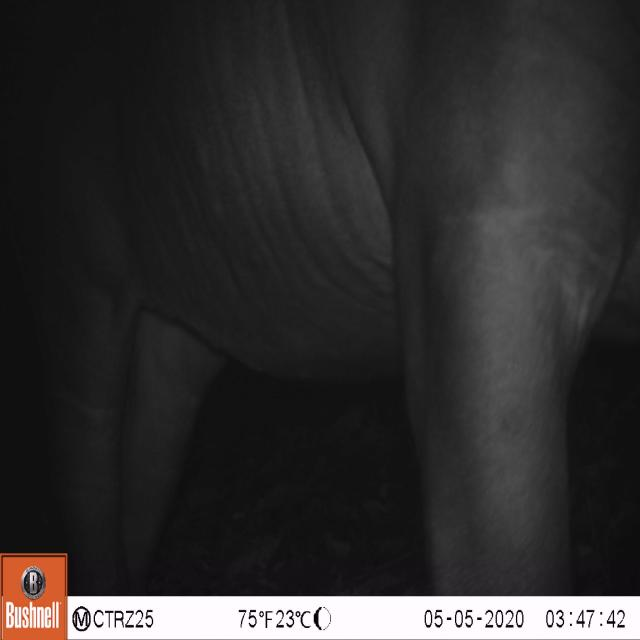Lowland Tapir: (2, 2, 640, 594)
